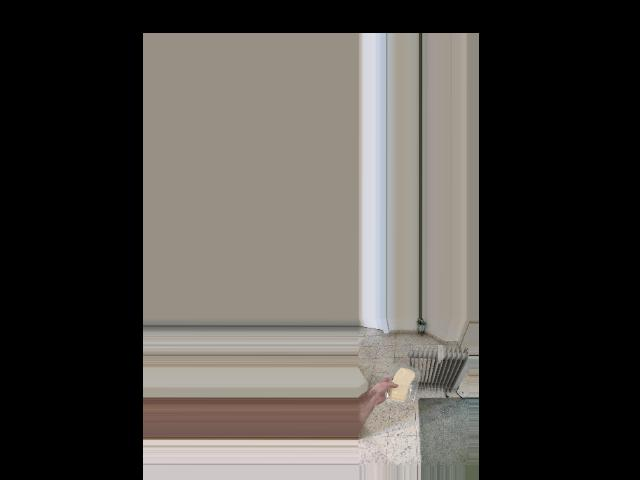cheese: (387, 363, 416, 404)
